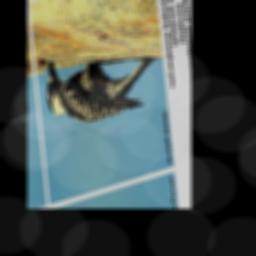Woodpecker: (43, 26, 161, 141)
